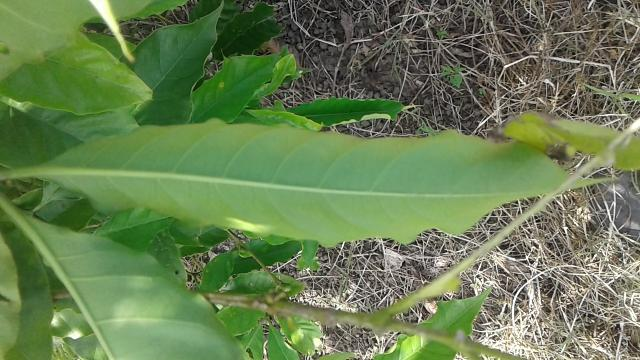healthy: (35, 119, 626, 252)
